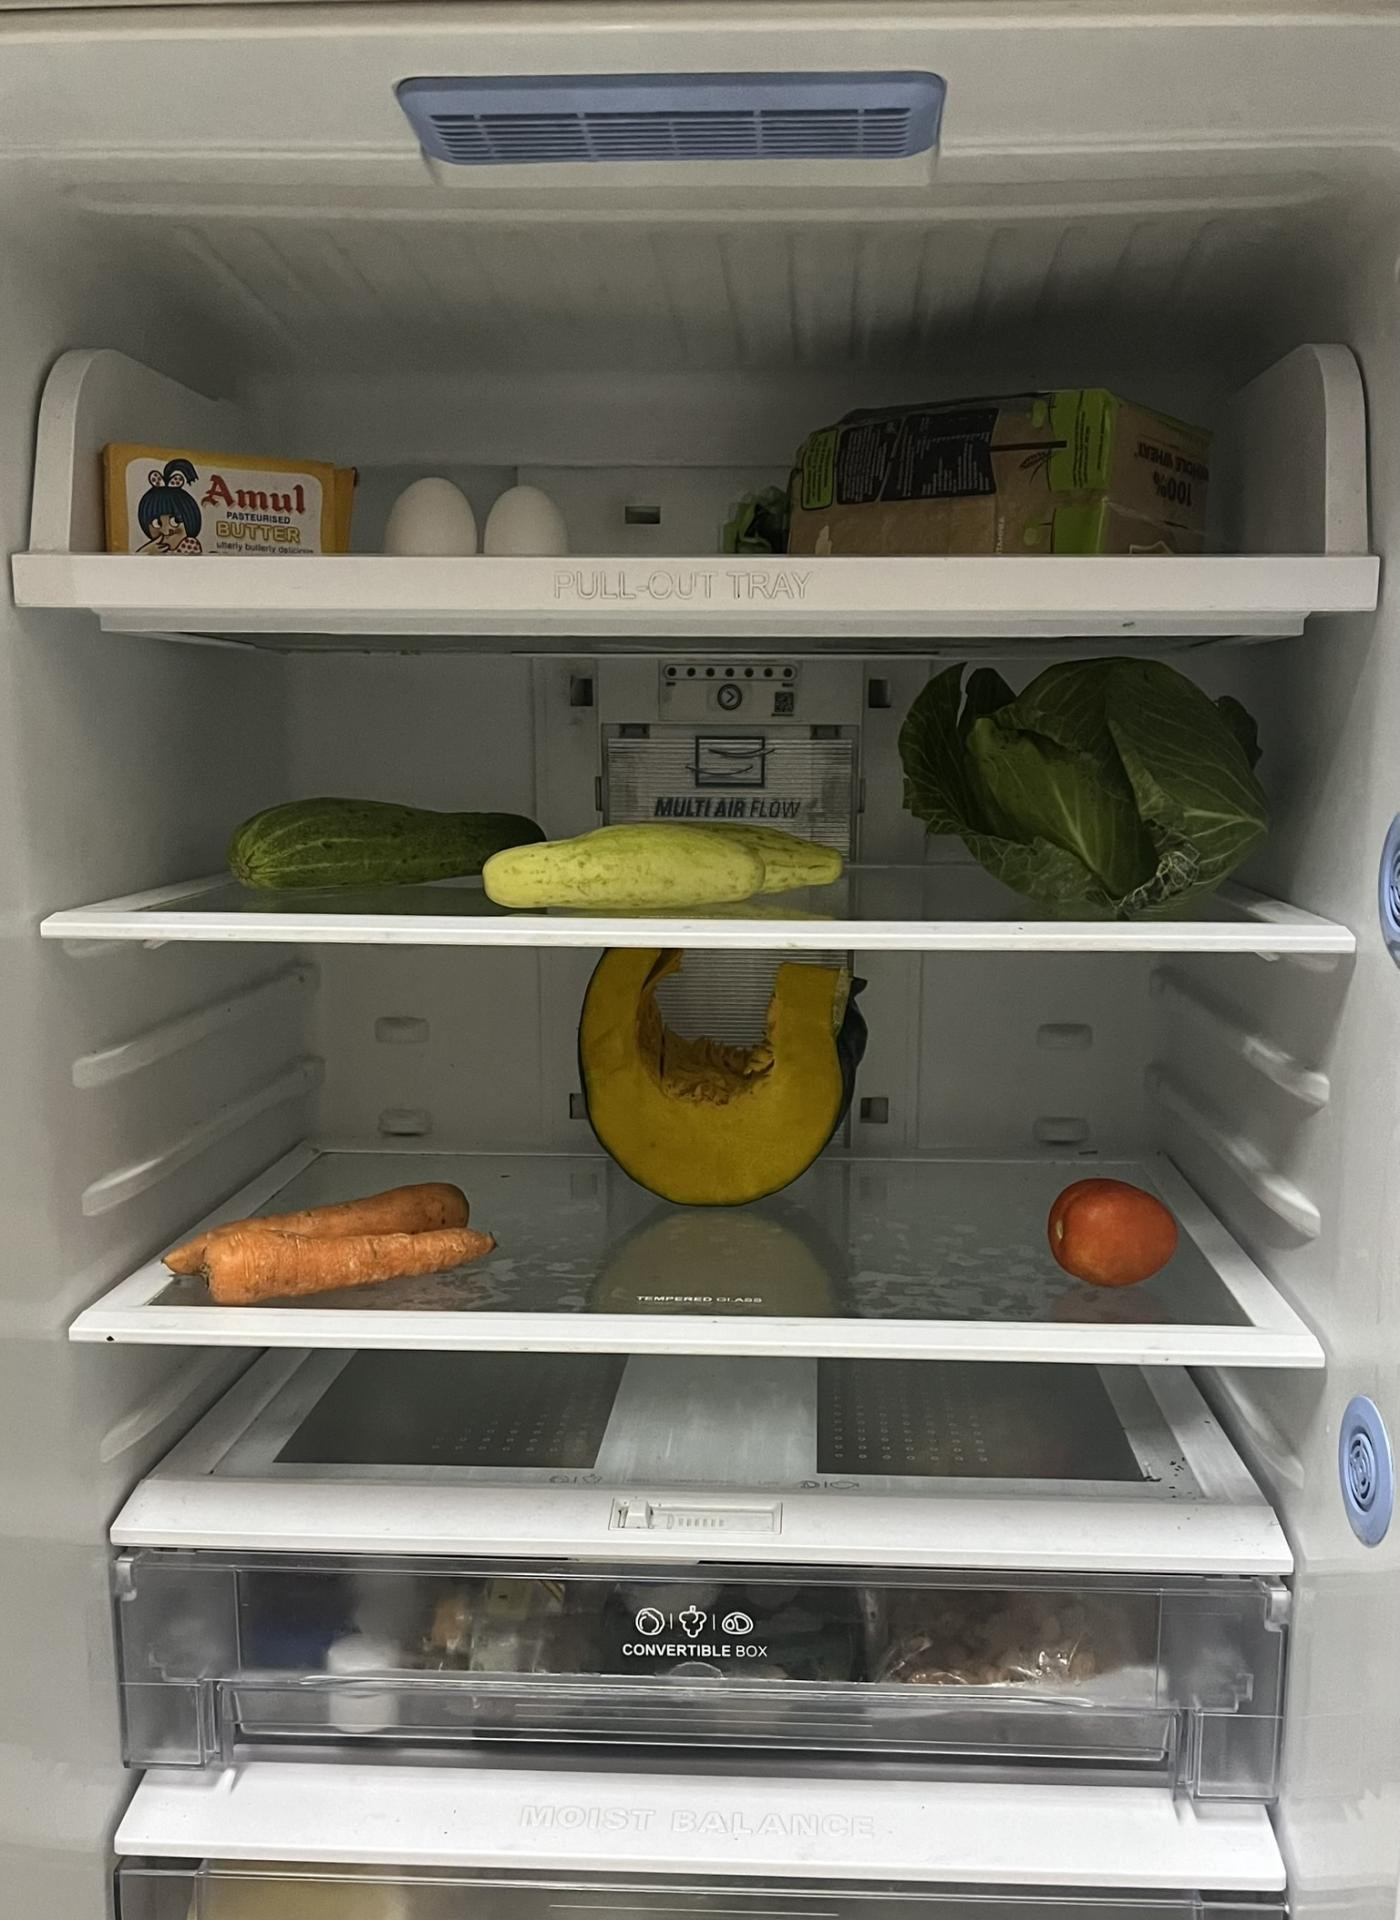bread: (735, 379, 1226, 553)
butter: (98, 444, 361, 560)
cabbage: (899, 654, 1272, 912)
carrots: (152, 1187, 496, 1297)
cucumber: (483, 815, 847, 906), (228, 798, 553, 891)
egg: (398, 470, 568, 560)
pumpkin: (581, 957, 869, 1218)
tomato: (1047, 1176, 1179, 1297)
